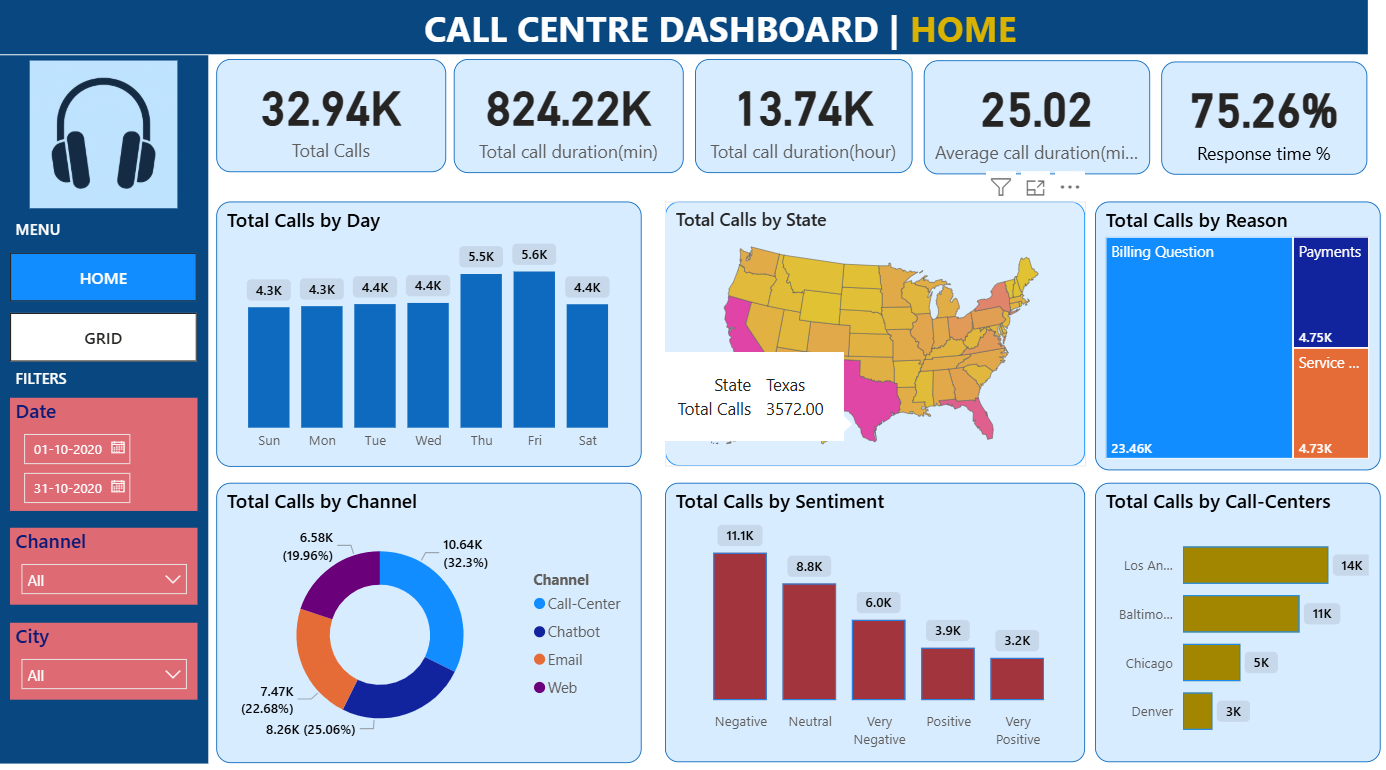

What the dashboard file says about the page in this screenshot:
{"tool":"powerbi","page":{"name":"HOME","canvas":[1280,720],"ordinal":0},"visuals":[{"type":"shape","box":[20.9,14,1238.4,50],"z":0},{"type":"shape","box":[20.9,64,189.5,640.7],"z":1000},{"type":"card","fields":{"Values":["Call Center_Call Center.Total Calls"]},"box":[218.6,67.4,208.1,102.3],"z":2000},{"type":"card","fields":{"Values":["Call Center_Call Center.Total call duration(min)"]},"box":[432.6,67.4,208.1,103.5],"z":3000},{"type":"card","fields":{"Values":["Call Center_Call Center.Total call duration(hour)"]},"box":[651.2,67.4,196.5,103.5],"z":4000},{"type":"card","fields":{"Values":["Call Center_Call Center.Average call duration(min)"]},"box":[858.1,68.6,204.7,103.5],"z":5000},{"type":"card","fields":{"Values":["Call Center_Call Center.Response time %"]},"box":[1073.3,69.8,186,102.3],"z":6000},{"type":"textbox","box":[401.2,14,620.9,64],"z":7000},{"type":"columnChart","fields":{"Y":["Call Center_Call Center.Total Calls"],"Category":["Date Table.Day"]},"box":[218.6,196.5,385,240],"z":8000},{"type":"shapeMap","fields":{"Category":["Call Center_Call Center.State"],"Value":["Call Center_Call Center.Total Calls"]},"box":[624.4,196.5,380.2,239.5],"z":9000},{"type":"treemap","fields":{"Group":["Call Center_Call Center.Reason"],"Values":["Call Center_Call Center.Total Calls"]},"box":[1012.8,196.5,258.1,243],"z":10000},{"type":"donutChart","fields":{"Y":["Call Center_Call Center.Total Calls"],"Category":["Call Center_Call Center.Channel"]},"box":[218.6,451.2,384.9,253.5],"z":11000},{"type":"columnChart","fields":{"Category":["Call Center_Call Center.Sentiment"],"Y":["Call Center_Call Center.Total Calls"]},"box":[624,451,380,253],"z":12000},{"type":"barChart","fields":{"Category":["Call Center_Call Center.Call-Centres City"],"Y":["Call Center_Call Center.Total Calls"]},"box":[1013,451,258,253],"z":13000},{"type":"slicer","title":"Date ","fields":{"Values":["Date Table.Date"]},"box":[31.4,374.4,169.8,102.3],"z":14000},{"type":"slicer","title":"Channel","fields":{"Values":["Call Center_Call Center.Channel"]},"box":[31.4,491.9,169.8,69.8],"z":15000},{"type":"slicer","title":"City","fields":{"Values":["Call Center_Call Center.City"]},"box":[31.4,577.9,169.8,69.8],"z":16000},{"type":"image","box":[20.9,64,189.5,143],"z":17000},{"type":"pageNavigator","box":[31.4,243,169.8,98.8],"z":18000},{"type":"textbox","box":[31.4,207,59.3,36],"z":19000},{"type":"textbox","box":[31.4,343,59.3,36],"z":20000}]}

Visuals, with their boxes in screenshot pixels (x1, y1, x2, y2), scaled from the page's 1280x720 canvas onto the 1386x770 screenshot:
shape: BBox(23, 15, 1364, 68)
shape: BBox(23, 68, 228, 754)
card - Call Center_Call Center.Total Calls: BBox(237, 72, 462, 181)
card - Call Center_Call Center.Total call duration(min): BBox(468, 72, 694, 183)
card - Call Center_Call Center.Total call duration(hour): BBox(705, 72, 918, 183)
card - Call Center_Call Center.Average call duration(min): BBox(929, 73, 1151, 184)
card - Call Center_Call Center.Response time %: BBox(1162, 75, 1364, 184)
textbox: BBox(434, 15, 1107, 83)
columnChart - Call Center_Call Center.Total Calls x Date Table.Day: BBox(237, 210, 654, 467)
shapeMap - Call Center_Call Center.State x Call Center_Call Center.Total Calls: BBox(676, 210, 1088, 466)
treemap - Call Center_Call Center.Reason x Call Center_Call Center.Total Calls: BBox(1097, 210, 1376, 470)
donutChart - Call Center_Call Center.Total Calls x Call Center_Call Center.Channel: BBox(237, 483, 653, 754)
columnChart - Call Center_Call Center.Sentiment x Call Center_Call Center.Total Calls: BBox(676, 482, 1087, 753)
barChart - Call Center_Call Center.Call-Centres City x Call Center_Call Center.Total Calls: BBox(1097, 482, 1376, 753)
"Date " slicer: BBox(34, 400, 218, 510)
"Channel" slicer: BBox(34, 526, 218, 601)
"City" slicer: BBox(34, 618, 218, 693)
image: BBox(23, 68, 228, 221)
pageNavigator: BBox(34, 260, 218, 366)
textbox: BBox(34, 221, 98, 260)
textbox: BBox(34, 367, 98, 405)
